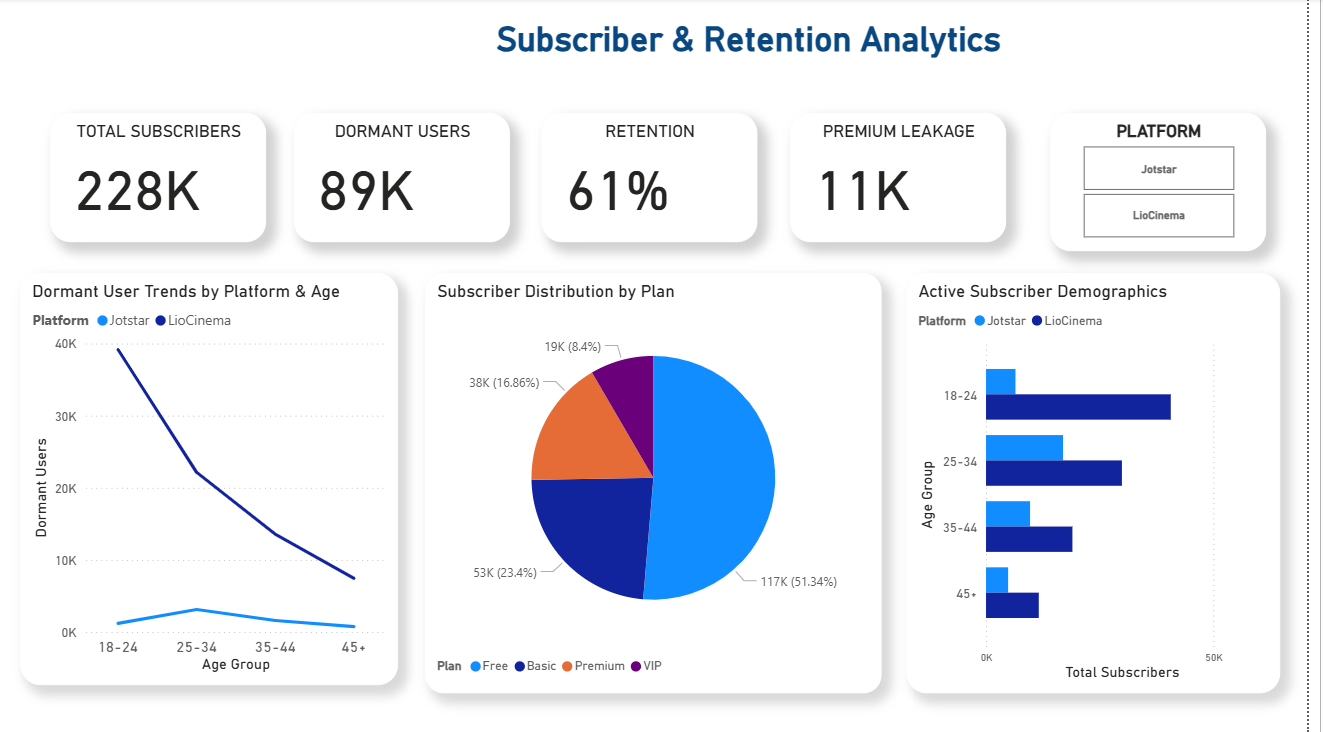

The page's visual inventory and layout, read from the dashboard file:
{"tool":"powerbi","page":{"name":"Page 1","canvas":[1280,720],"ordinal":0},"visuals":[{"type":"cardVisual","title":"TOTAL SUBSCRIBERS","fields":{"Data":["Table.Total Subscribers"]},"box":[46.4,55.2,210.9,126.8],"z":0},{"type":"cardVisual","title":"DORMANT USERS","fields":{"Data":["Table.Dormant Users"]},"box":[284.3,55.4,210.8,126.5],"z":1000},{"type":"cardVisual","title":"RETENTION","fields":{"Data":["Table.Retention Rate %"]},"box":[526.5,55.4,210.8,126.5],"z":2000},{"type":"cardVisual","title":"PREMIUM LEAKAGE","fields":{"Data":["Table.Premium Leakage"]},"box":[769.9,55.4,210.8,126.5],"z":3000},{"type":"lineChart","title":"Dormant User Trends by Platform & Age","fields":{"Category":["Fact_Subscribers.age_group"],"Series":["Fact_Subscribers.Platform"],"Y":["Table.Dormant Users"]},"box":[21.3,224.7,369,448.1],"z":4000},{"type":"pieChart","title":"Subscriber Distribution by Plan","fields":{"Category":["Fact_Subscribers.subscription_plan"],"Y":["Table.Total Subscribers"]},"box":[416.7,224.7,447,455.4],"z":5000},{"type":"clusteredBarChart","title":"Active Subscriber Demographics","fields":{"Category":["Fact_Subscribers.age_group"],"Series":["Fact_Subscribers.Platform"],"Y":["Table.Total Subscribers"]},"box":[887.5,224.7,366.5,455.7],"z":6000},{"type":"slicer","title":"PLATFORM","fields":{"Values":["Fact_Subscribers.Platform"]},"box":[1024.3,55.2,210.9,135.6],"z":7000}]}

Visuals, with their boxes in screenshot pixels (x1, y1, x2, y2), scaled from the page's 1280x720 canvas onto the 1323x732 screenshot:
"TOTAL SUBSCRIBERS" cardVisual: [48, 56, 266, 185]
"DORMANT USERS" cardVisual: [294, 56, 512, 185]
"RETENTION" cardVisual: [544, 56, 762, 185]
"PREMIUM LEAKAGE" cardVisual: [796, 56, 1014, 185]
"Dormant User Trends by Platform & Age" lineChart: [22, 228, 403, 684]
"Subscriber Distribution by Plan" pieChart: [431, 228, 893, 691]
"Active Subscriber Demographics" clusteredBarChart: [917, 228, 1296, 692]
"PLATFORM" slicer: [1059, 56, 1277, 194]
